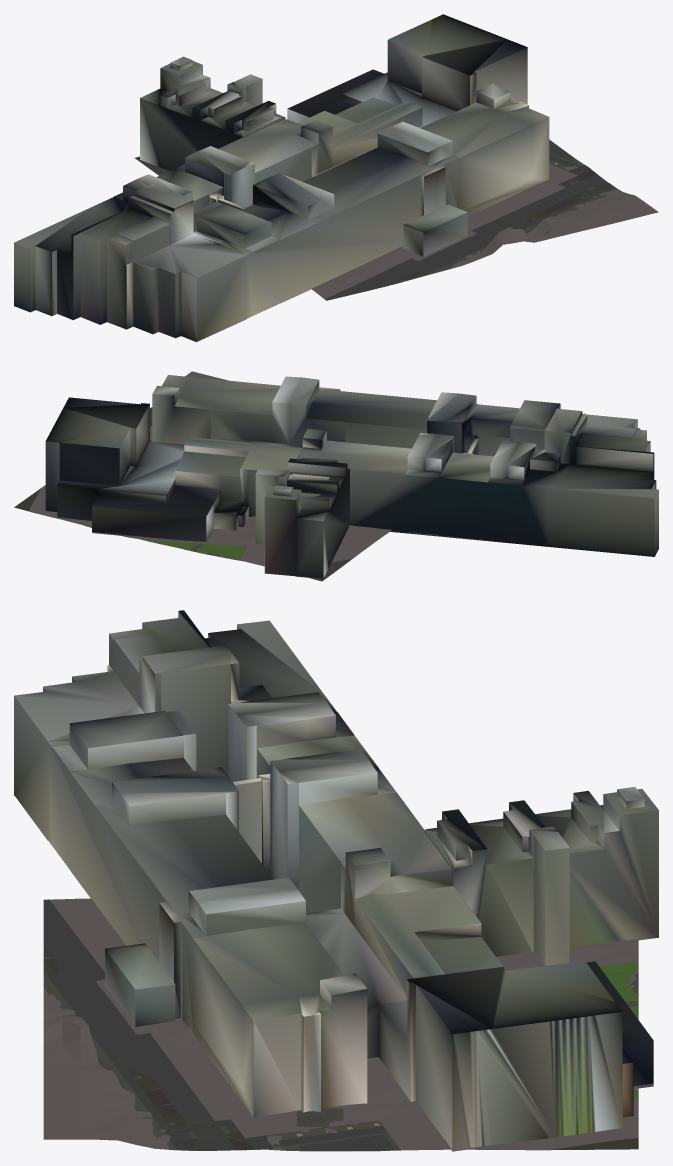
The picture shows the model from 3 angles, top to bottom: view 1: azimuth 30°, elevation 25°; view 2: azimuth 150°, elevation 25°; view 3: azimuth 270°, elevation 25°; orthographic projection. The views are drawn at different scales.
Parts seen in each view (by area): view 1: c_m21_p06; view 2: c_m21_p06; view 3: c_m21_p06.
Boxes of the visible parts, left/top/right/bottom form: c_m21_p06: left=14, top=14, right=658, bottom=342; c_m21_p06: left=14, top=371, right=658, bottom=581; c_m21_p06: left=14, top=610, right=658, bottom=1151.
Bounding box in the file's own units: 220 × 36.93 × 139.
